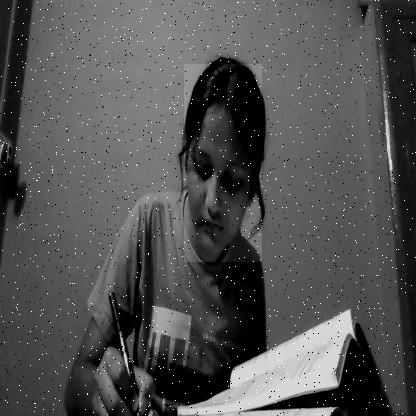Distracted: (184, 64, 262, 262)
